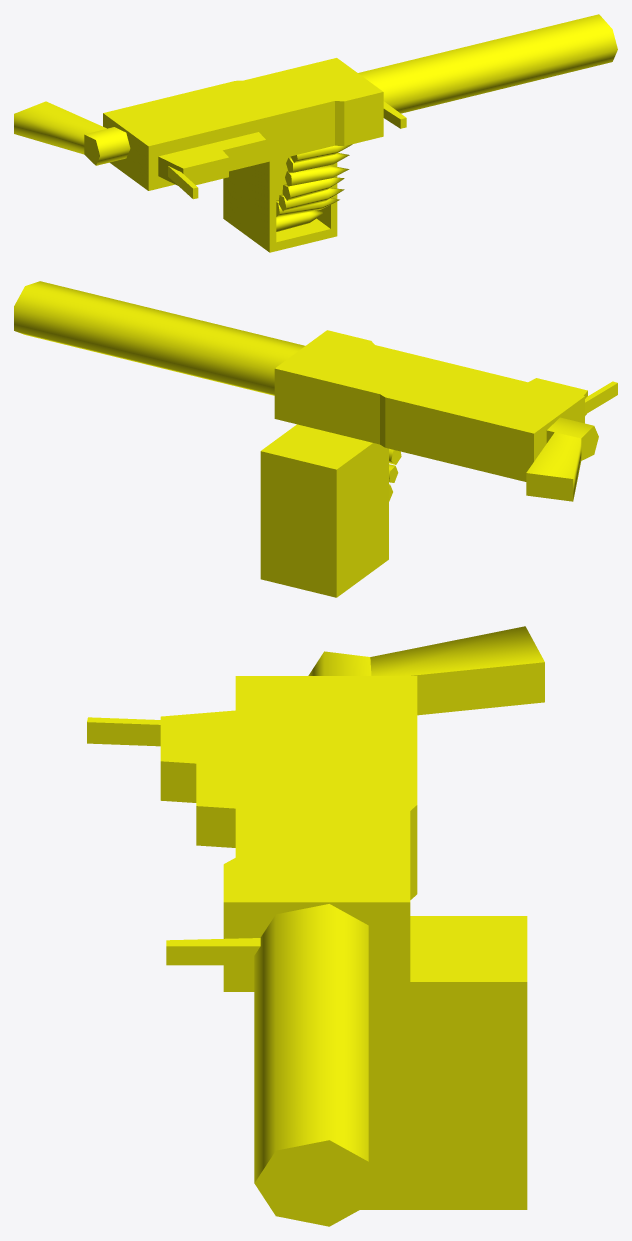
File: weapon_30cal.glb
The picture shows the model from 3 angles, top to bottom: view 1: azimuth 30°, elevation 25°; view 2: azimuth 150°, elevation 25°; view 3: azimuth 270°, elevation 25°; orthographic projection. The views are drawn at different scales.
Parts seen in each view (by area): view 1: weapon_30cal; view 2: weapon_30cal; view 3: weapon_30cal.
Boxes of the visible parts, <box> form: weapon_30cal: <box>14,14,617,252</box>; weapon_30cal: <box>14,281,617,597</box>; weapon_30cal: <box>87,626,544,1226</box>.
Bounding box in the file's own units: 1.74 × 0.501 × 0.6426.
1 material, 1 textured.
